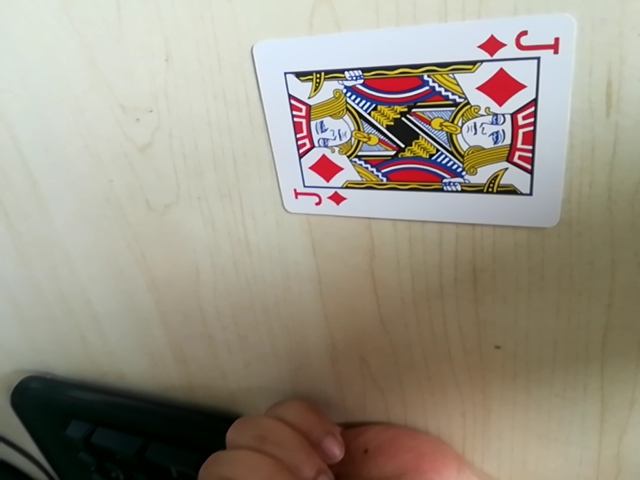fk j: (474, 24, 562, 59), (288, 186, 348, 213)
